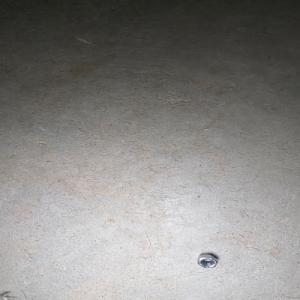Nut: (194, 252, 218, 267)
